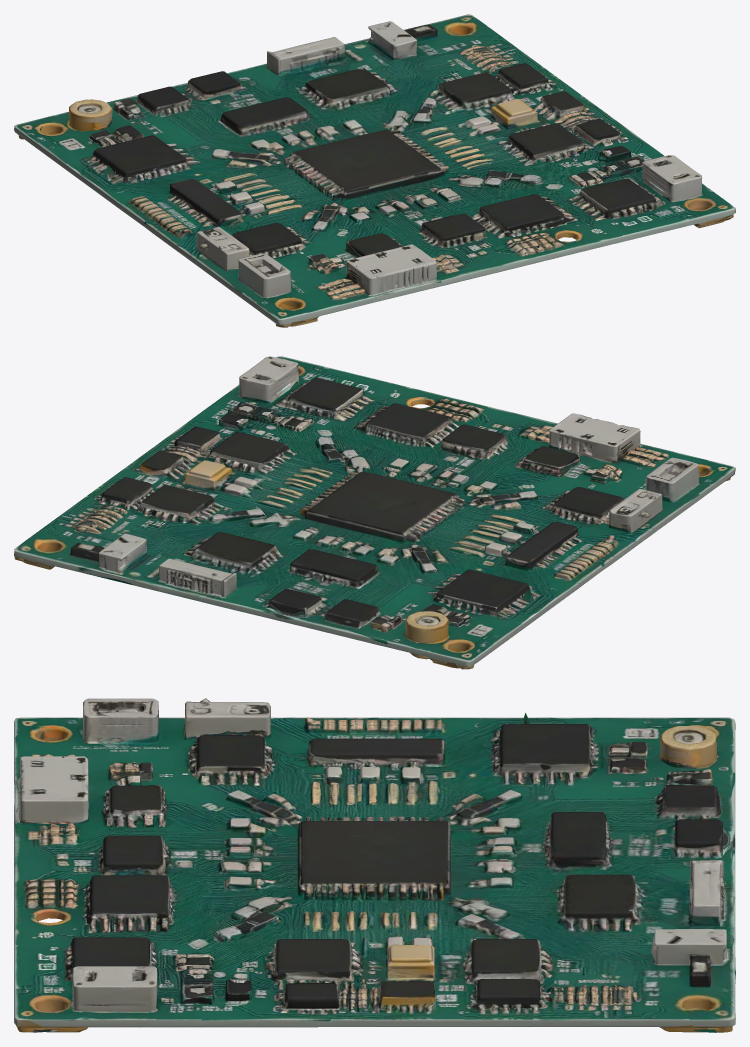
The model's file is SM_PCB_Modern_06_Low.opt.glb.
3 renders of one model, top to bottom at view 1: azimuth 30°, elevation 25°; view 2: azimuth 150°, elevation 25°; view 3: azimuth 270°, elevation 25°, orthographic. The views are drawn at different scales.
Parts seen in each view (by area): view 1: SM_PCB_Modern_06_Low; view 2: SM_PCB_Modern_06_Low; view 3: SM_PCB_Modern_06_Low.
Boxes of the visible parts, x1,y1,x2,y2 form: SM_PCB_Modern_06_Low: (14,14,735,327); SM_PCB_Modern_06_Low: (14,356,735,669); SM_PCB_Modern_06_Low: (14,698,735,1032).
Bounding box in the file's own units: 0.9889 × 0.0775 × 0.9954.
1 material, 1 textured.
